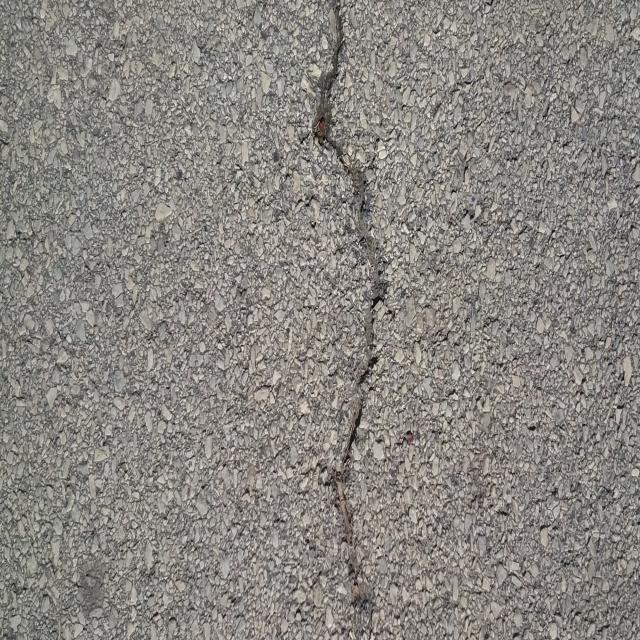Crack: (314, 0, 388, 640)
